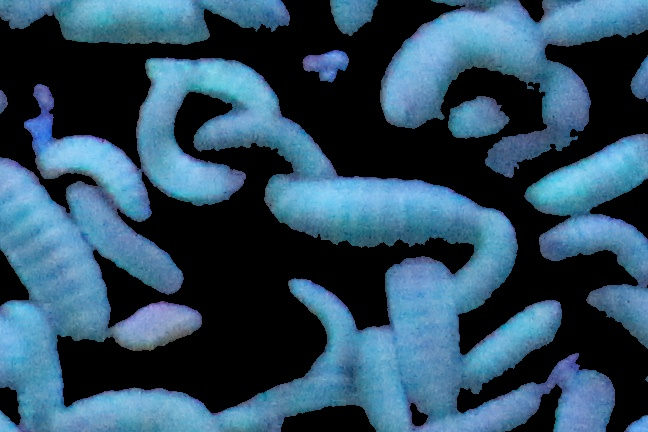larvae: (1, 155, 111, 343), (382, 9, 542, 127), (266, 172, 477, 247), (62, 181, 183, 292), (383, 255, 462, 420), (138, 86, 245, 204), (36, 132, 151, 219), (525, 131, 648, 212), (456, 297, 562, 390), (194, 112, 336, 177), (4, 300, 65, 432), (540, 212, 648, 283), (147, 57, 280, 114), (64, 385, 220, 432), (57, 1, 208, 47), (450, 209, 518, 310), (225, 378, 351, 432), (288, 277, 357, 375), (353, 327, 413, 432), (424, 382, 543, 432), (538, 1, 648, 47), (583, 282, 648, 345), (554, 368, 616, 432)
